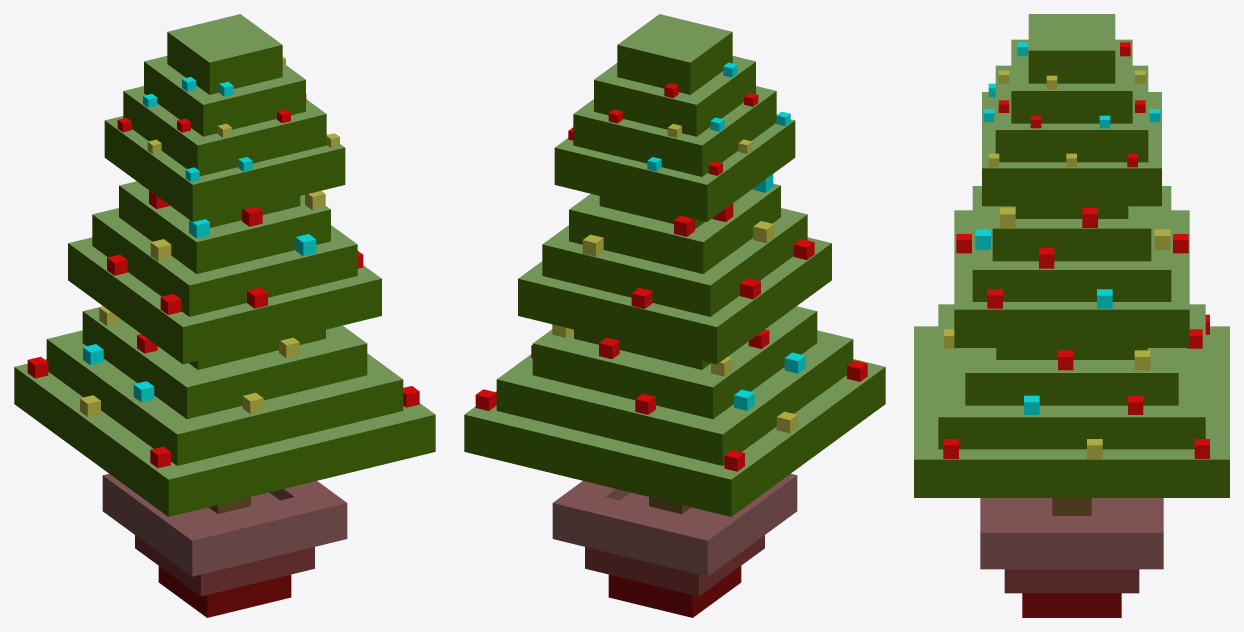
File: 046 Xmas_Tree.fbx
3 renders of one model, left to right at view 1: azimuth 30°, elevation 25°; view 2: azimuth 150°, elevation 25°; view 3: azimuth 270°, elevation 25°, orthographic. The views are drawn at different scales.
Visible parts, largest first — view 1: Lowpoly_Christmas_Pack_046:pCube60; view 2: Lowpoly_Christmas_Pack_046:pCube60; view 3: Lowpoly_Christmas_Pack_046:pCube60.
Boxes of the visible parts, bbox=[...] form: Lowpoly_Christmas_Pack_046:pCube60: bbox=[14, 14, 435, 617]; Lowpoly_Christmas_Pack_046:pCube60: bbox=[464, 14, 885, 617]; Lowpoly_Christmas_Pack_046:pCube60: bbox=[914, 14, 1229, 617].
Bounding box in the file's own units: 2.34 × 4.61 × 2.34.
